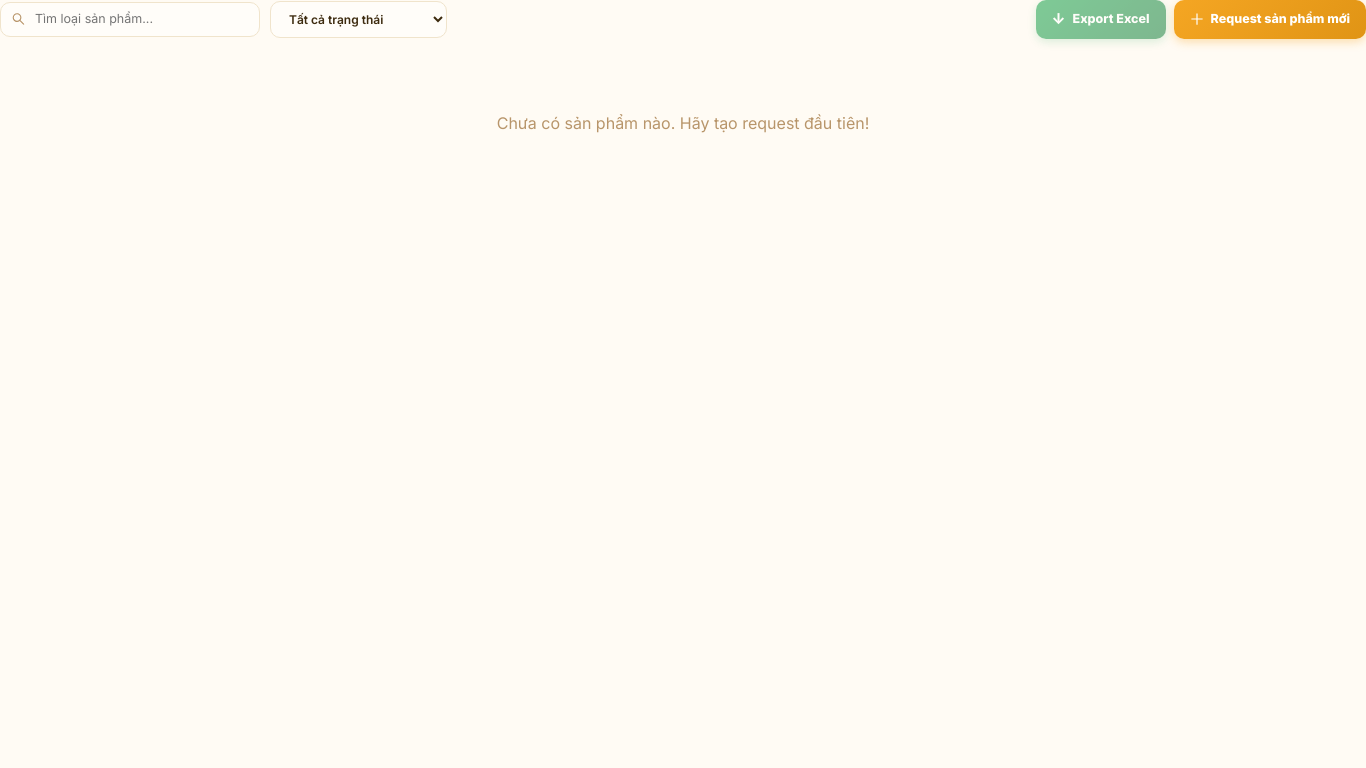
Test: Seller — form request phôi mới › đếm lại khi người dùng điền field bắt buộc
Click the button "Request sản phẩm mới". click: (1270, 19)
box: left=1174, top=0, right=1365, bottom=38
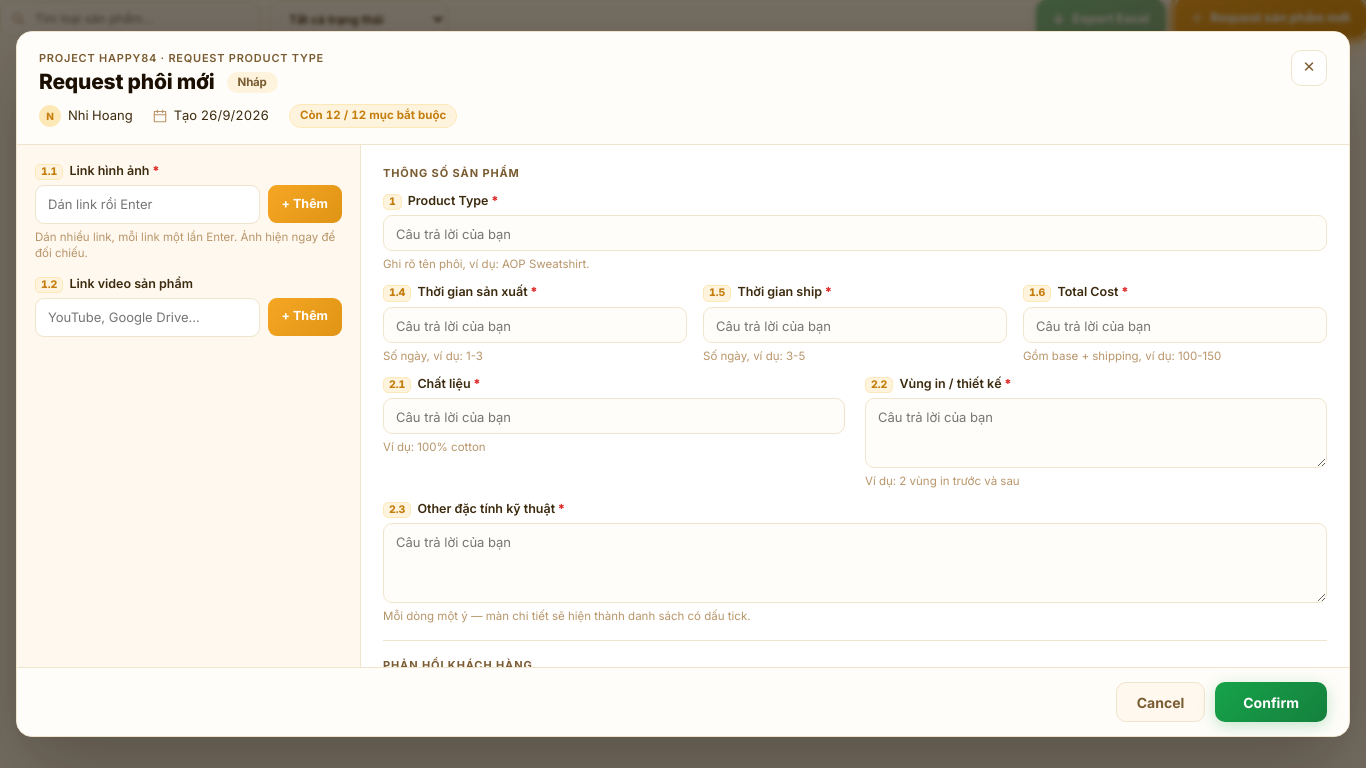
Type "Pet AOP TShirt" into the 1st text box with placeholder "Câu trả lời của bạn". click: (855, 233)
box: left=383, top=215, right=1327, bottom=251
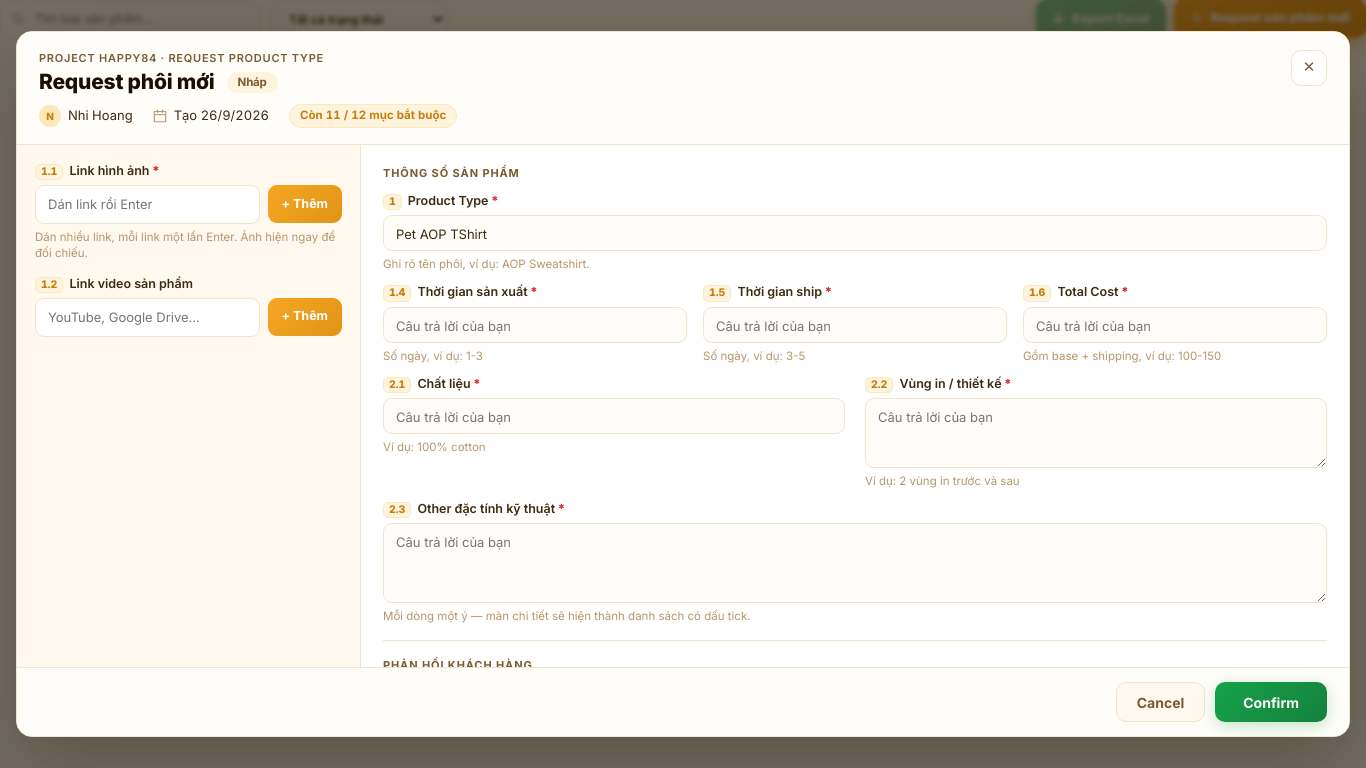
Now the text "Còn 11 / 12 mục bắt buộc" is shown, box left=289, top=104, right=457, bottom=128
